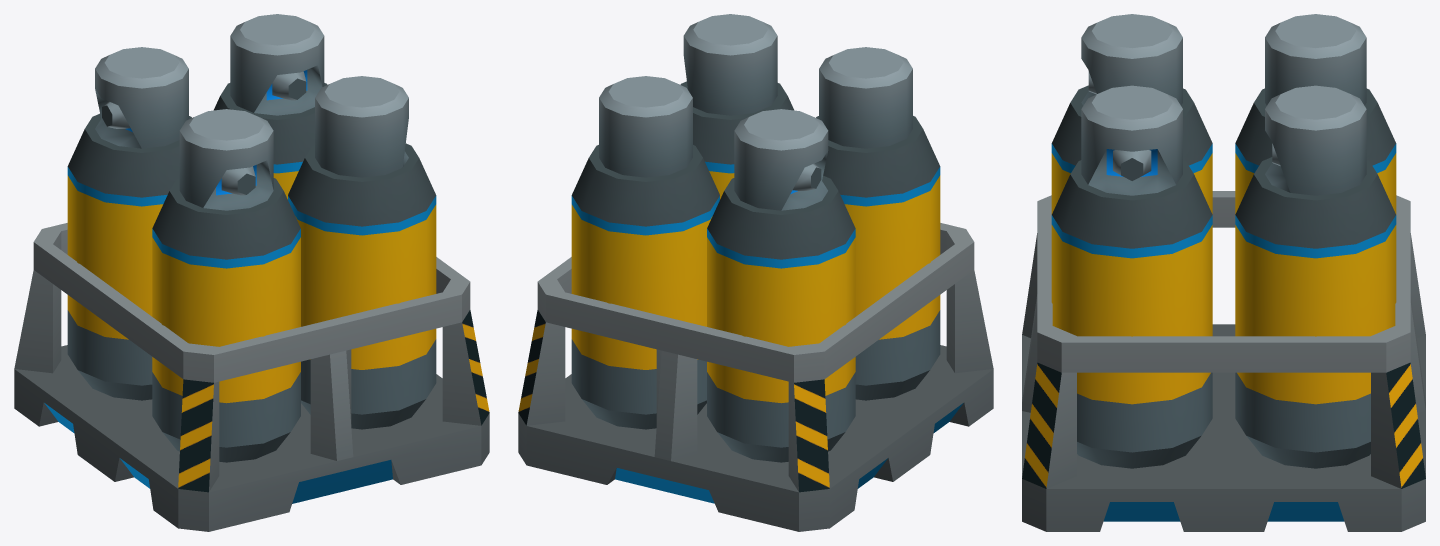
File: Baloon_009.fbx
The picture shows the model from 3 angles, left to right: view 1: azimuth 30°, elevation 25°; view 2: azimuth 150°, elevation 25°; view 3: azimuth 270°, elevation 25°; orthographic projection. The views are drawn at different scales.
Visible parts, largest first — view 1: Baloon_009; view 2: Baloon_009; view 3: Baloon_009.
Boxes of the visible parts, x1,y1,x2,y2 form: Baloon_009: (14, 14, 489, 531); Baloon_009: (518, 14, 993, 531); Baloon_009: (1022, 14, 1425, 531).
Bounding box in the file's own units: 120 × 124 × 130.
